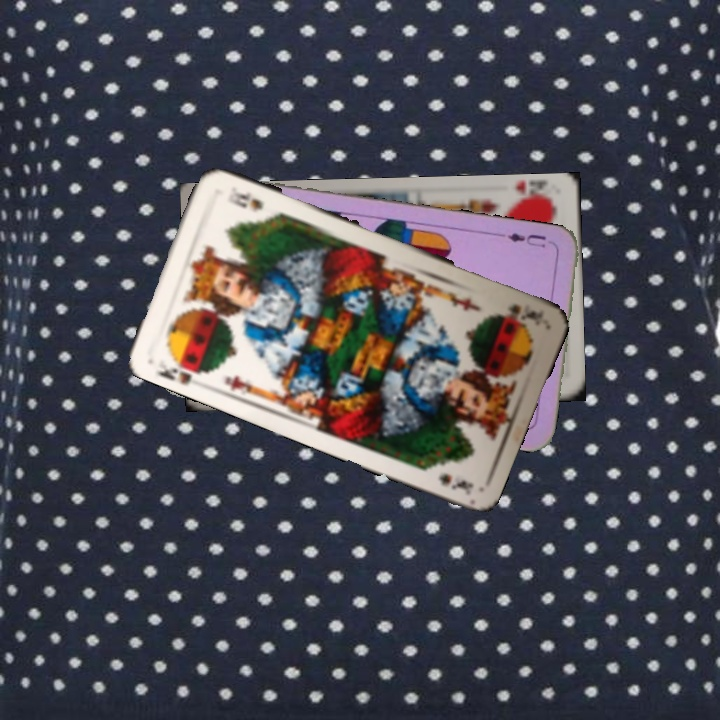EU: (499, 228, 558, 251)
HK: (510, 180, 554, 208)
SK: (152, 356, 209, 388), (503, 299, 547, 328)
